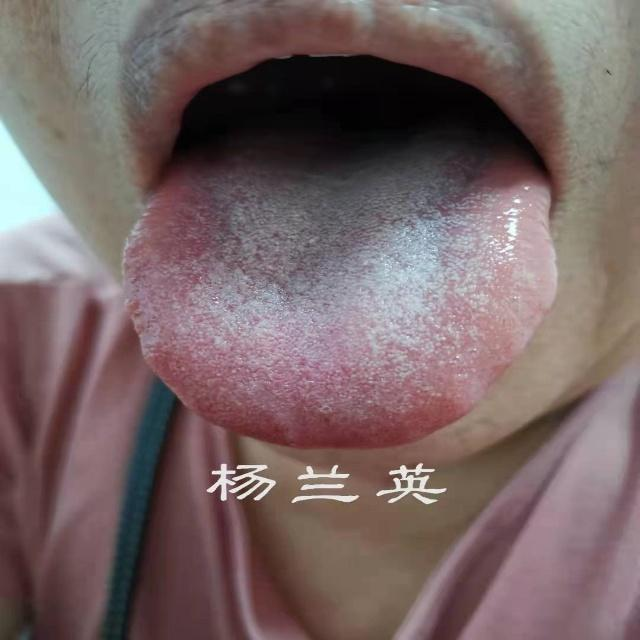baitaishe: (121, 162, 558, 450)
pangdashe: (120, 162, 557, 450)
